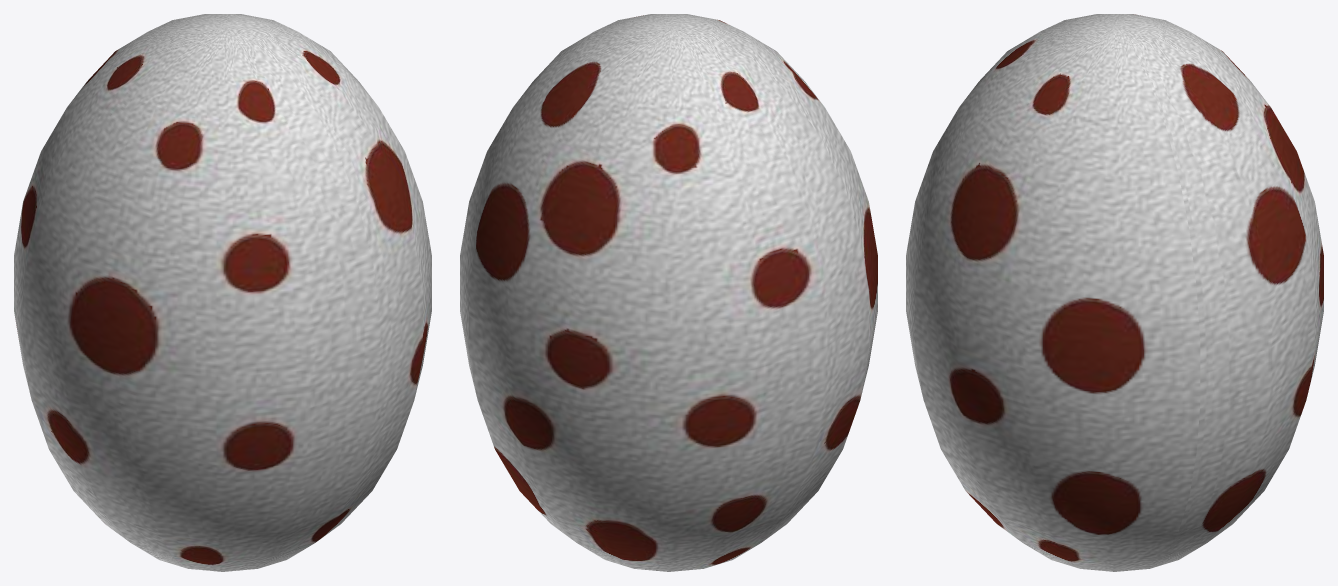
File: EGG.fbx
3 renders of one model, left to right at view 1: azimuth 30°, elevation 25°; view 2: azimuth 150°, elevation 25°; view 3: azimuth 270°, elevation 25°, orthographic.
Visible parts, largest first — view 1: Egg_; view 2: Egg_; view 3: Egg_.
Boxes of the visible parts, x1,y1,x2,y2 form: Egg_: (14,14,431,571); Egg_: (460,14,877,571); Egg_: (906,14,1323,571).
Bounding box in the file's own units: 2.56 × 3.61 × 2.57.
1 material, 1 textured.
